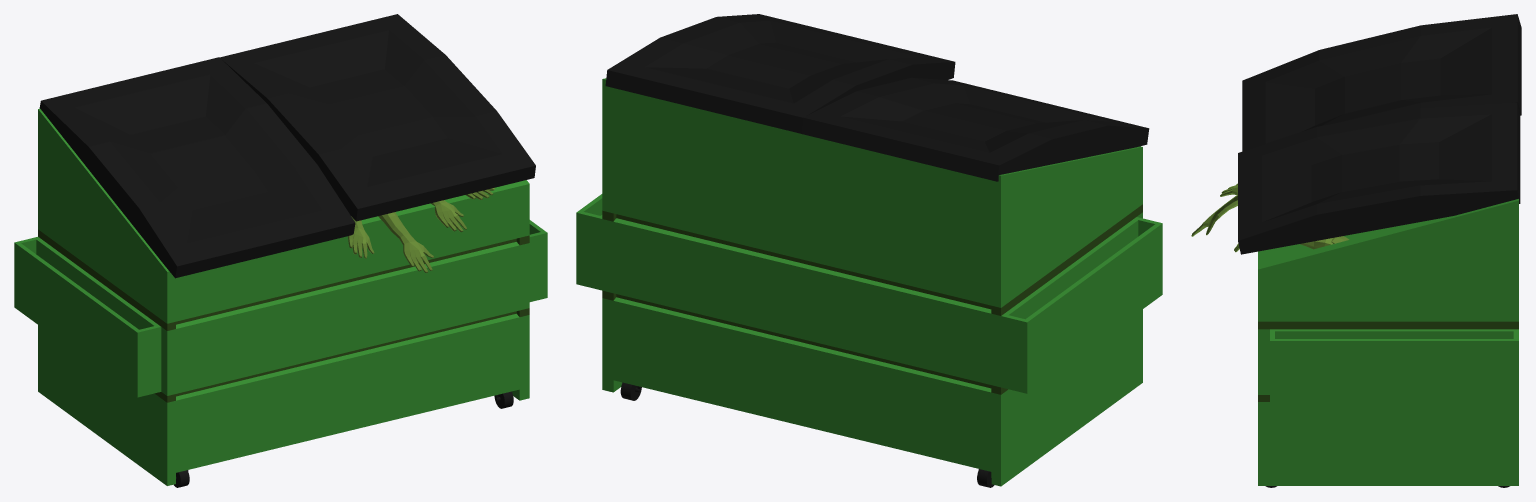
Rendered from Dumpster (3).FBX.
3 renders of one model, left to right at view 1: azimuth 30°, elevation 25°; view 2: azimuth 150°, elevation 25°; view 3: azimuth 270°, elevation 25°, orthographic. The views are drawn at different scales.
Parts seen in each view (by area): view 1: Box047; view 2: Box047; view 3: Box047.
Boxes of the visible parts, x1,y1,x2,y2 form: Box047: [14, 14, 547, 487]; Box047: [576, 14, 1162, 487]; Box047: [1191, 14, 1521, 487].
Size of the model in its own units: 460 by 322 by 318.
